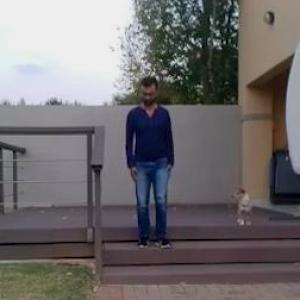follow: (124, 71, 171, 261)
